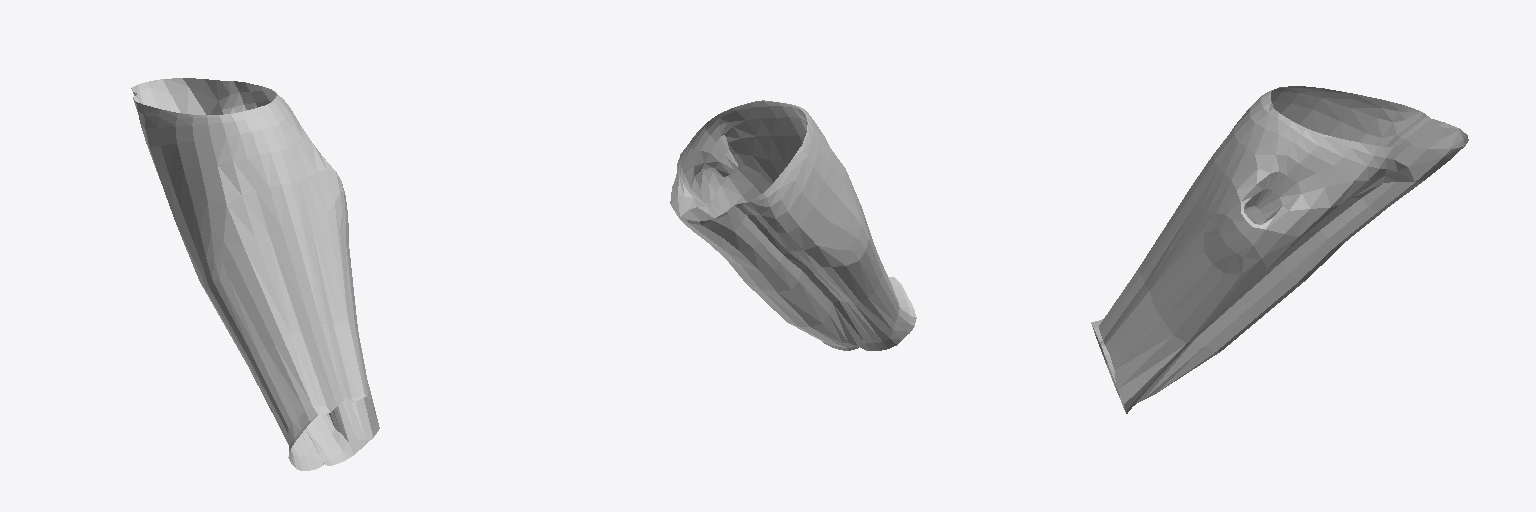
Rendered from mollet_avant_gauche.obj.
3 views of the same model, side by side, from view 1: azimuth 30°, elevation 25°; view 2: azimuth 150°, elevation 25°; view 3: azimuth 270°, elevation 25° (orthographic).
Parts seen in each view (by area): view 1: Cube.003_Cube.002; view 2: Cube.003_Cube.002; view 3: Cube.003_Cube.002.
Part boxes in pixels (left/top/right/bottom): Cube.003_Cube.002: left=131, top=78, right=379, bottom=470; Cube.003_Cube.002: left=670, top=100, right=916, bottom=350; Cube.003_Cube.002: left=1091, top=86, right=1468, bottom=413.
Size of the model in its own units: 0.5085 by 1.02 by 1.15.